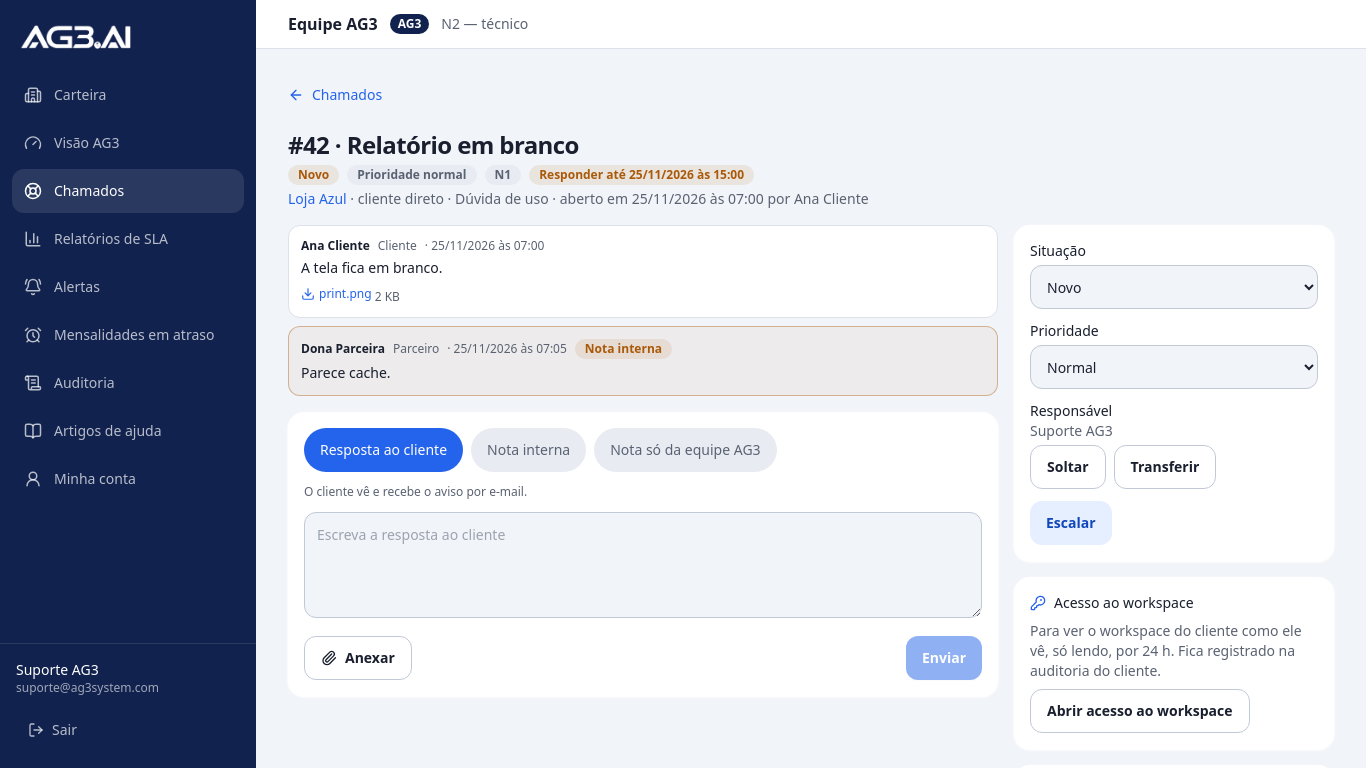
Test: chamados no Painel de Parcerias (8a) › transfere o responsável para quem atende no nível (26/11)
The width and height of the screenshot is (1366, 768).
Click the button "Transferir" at (1165,467), box top-left (1114, 445), bottom-right (1216, 489)
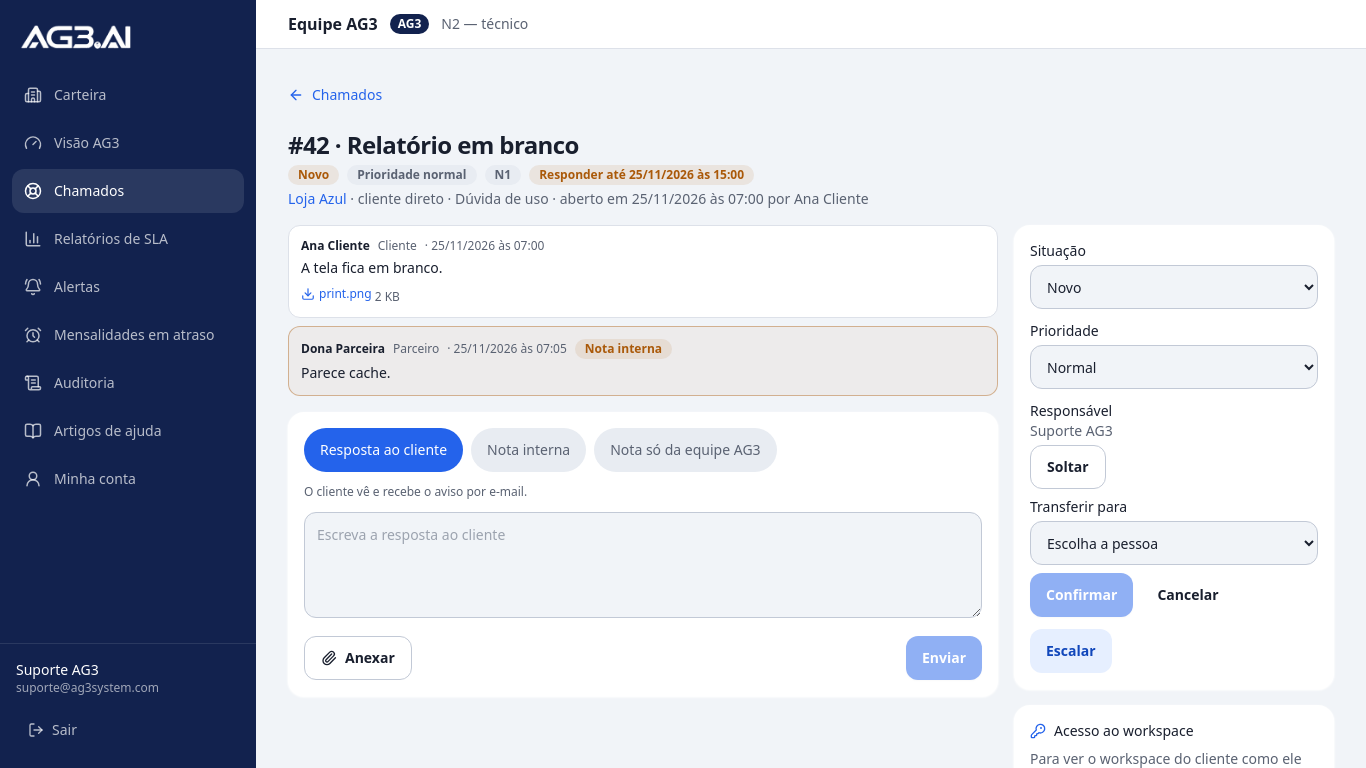
Select "Bruno Lima" in the dropdown labelled "Transferir para" at (1174,543), box top-left (1030, 521), bottom-right (1318, 565)
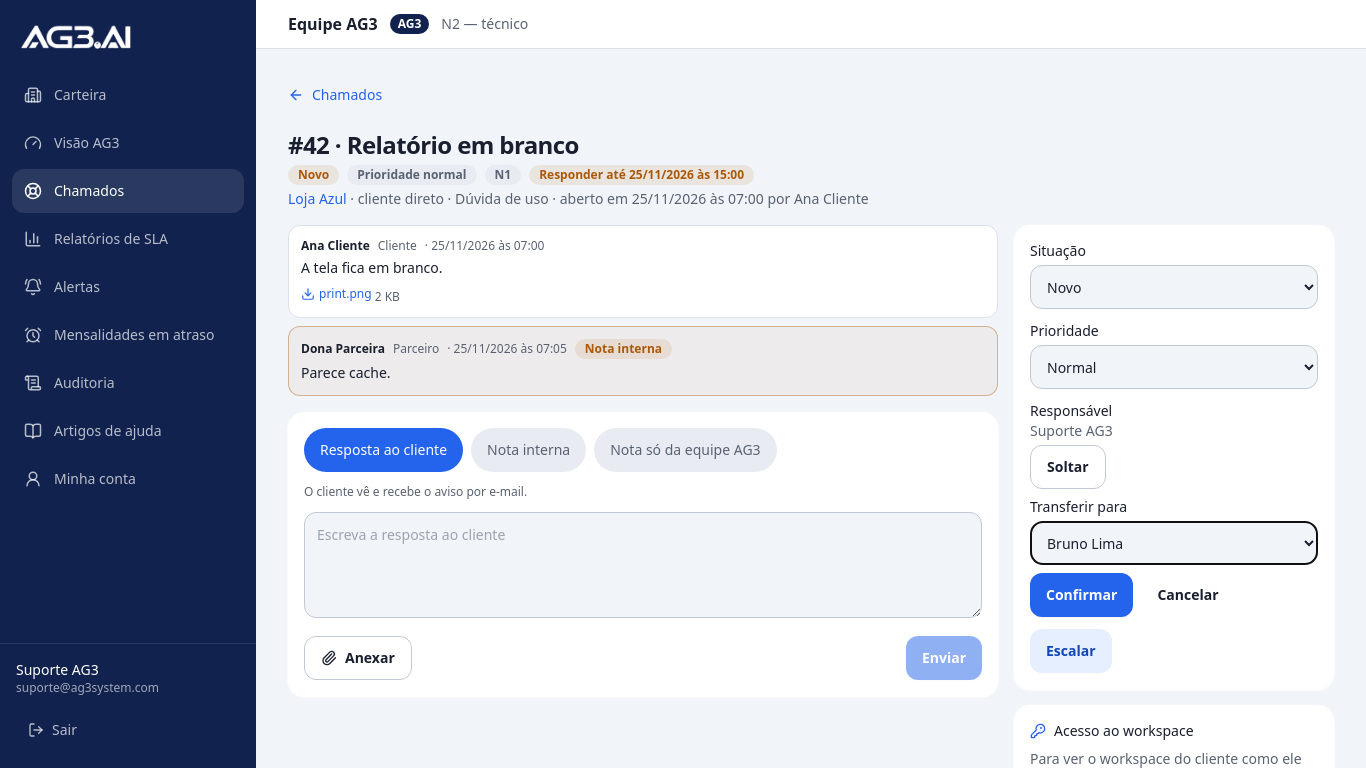
Click the button "Confirmar" at (1082,595), box top-left (1030, 573), bottom-right (1133, 617)
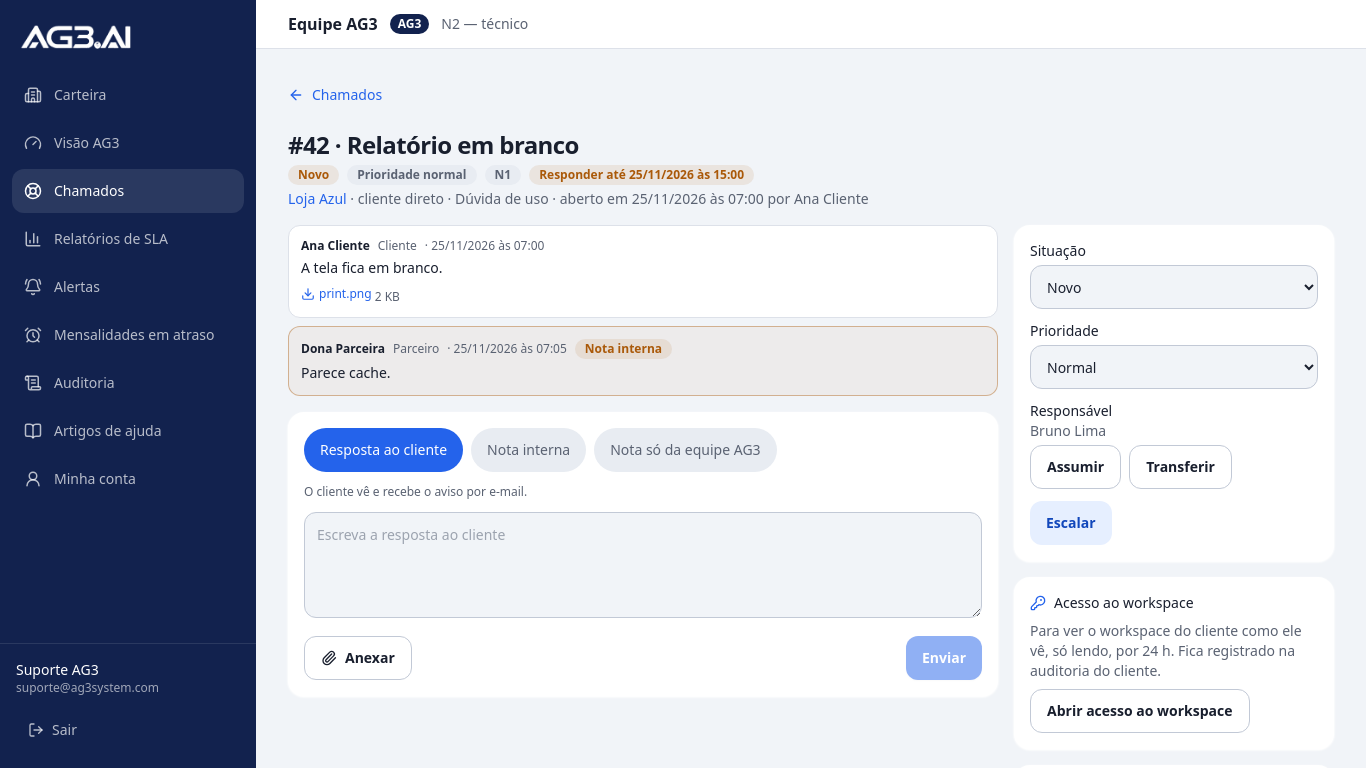
Check: the label labelled "Transferir para" is gone
